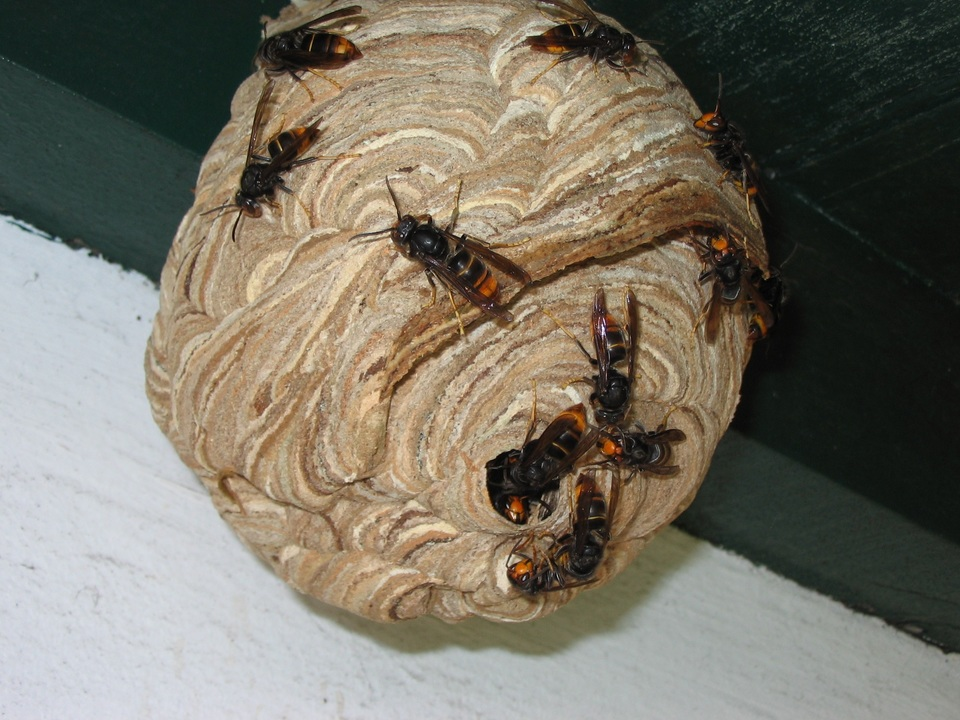hornet: (216, 101, 360, 226), (382, 205, 528, 319), (517, 4, 662, 81), (245, 18, 382, 88), (581, 297, 654, 422), (511, 401, 606, 496), (691, 107, 779, 203), (691, 223, 769, 328), (560, 478, 622, 578), (592, 422, 696, 481), (491, 470, 557, 530), (506, 547, 570, 604)
